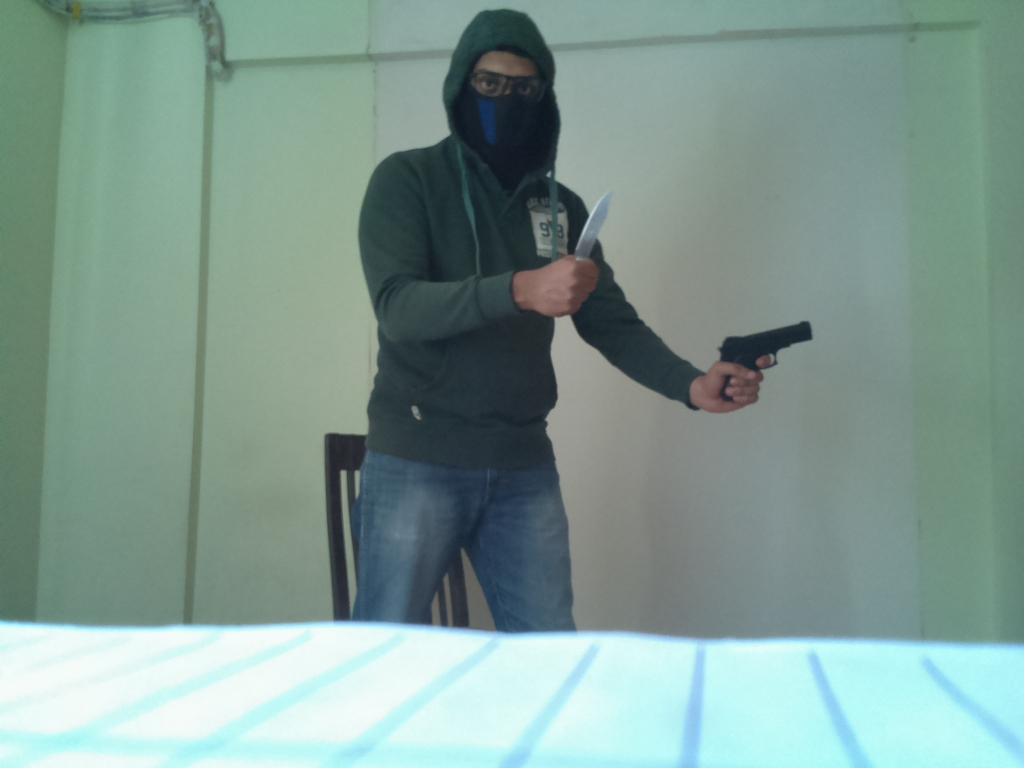gun: (719, 311, 820, 411)
knife: (572, 181, 621, 274)
